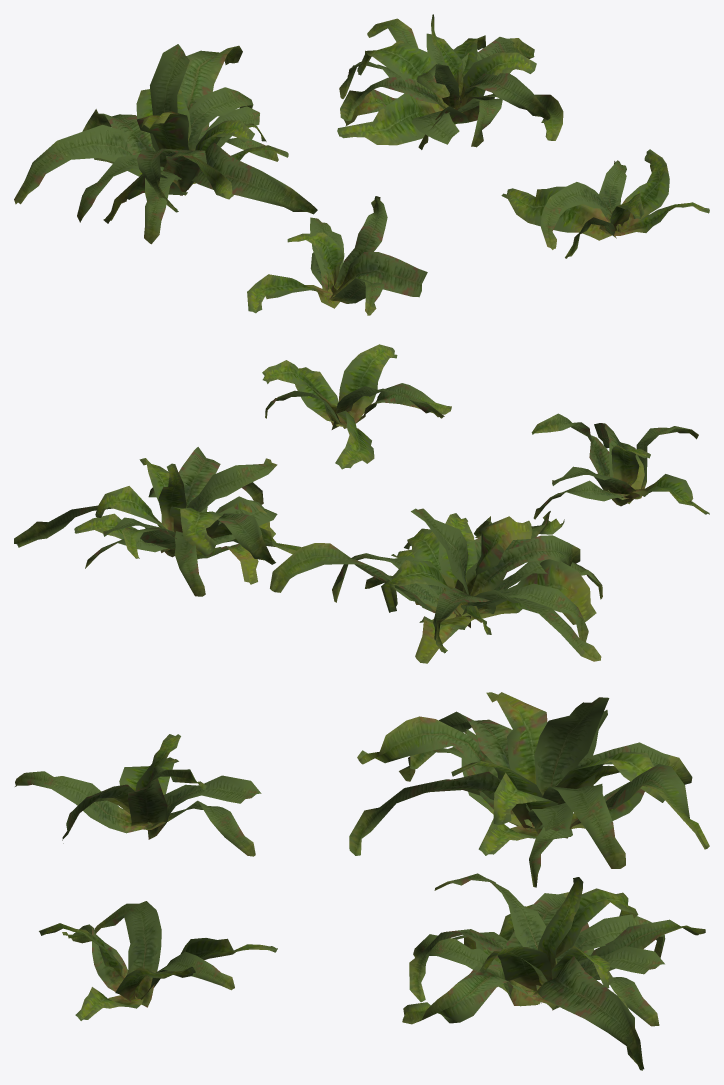
File: fern_02.glb
3 renders of one model, top to bottom at view 1: azimuth 30°, elevation 25°; view 2: azimuth 150°, elevation 25°; view 3: azimuth 270°, elevation 25°, orthographic. The views are drawn at different scales.
Parts seen in each view (by area): view 1: fern_02_b, fern_02_c, fern_02_d, fern_02_a; view 2: fern_02_b, fern_02_c, fern_02_d, fern_02_a; view 3: fern_02_b, fern_02_c, fern_02_a, fern_02_d.
Part boxes in pixels (bbox=[...]): fern_02_b: bbox=[14, 44, 317, 244]; fern_02_c: bbox=[337, 14, 563, 149]; fern_02_d: bbox=[501, 149, 709, 258]; fern_02_a: bbox=[247, 196, 427, 315]; fern_02_b: bbox=[270, 508, 602, 663]; fern_02_c: bbox=[14, 447, 300, 596]; fern_02_d: bbox=[262, 344, 451, 469]; fern_02_a: bbox=[531, 413, 709, 519]; fern_02_b: bbox=[349, 692, 709, 887]; fern_02_c: bbox=[402, 873, 705, 1070]; fern_02_a: bbox=[15, 734, 261, 856]; fern_02_d: bbox=[39, 901, 277, 1020].
Bounding box in the file's own units: 1.97 × 0.4277 × 1.72.
1 material, 1 textured.
